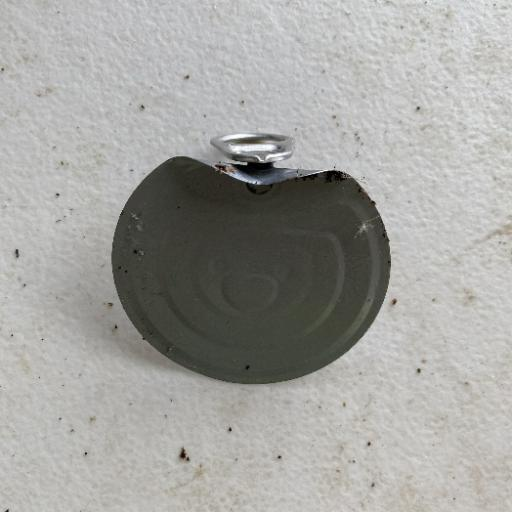Metal: (108, 130, 394, 387)
